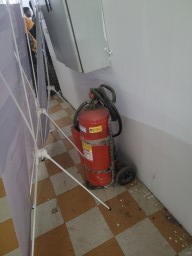fire_extinguisher: (63, 93, 143, 161)
